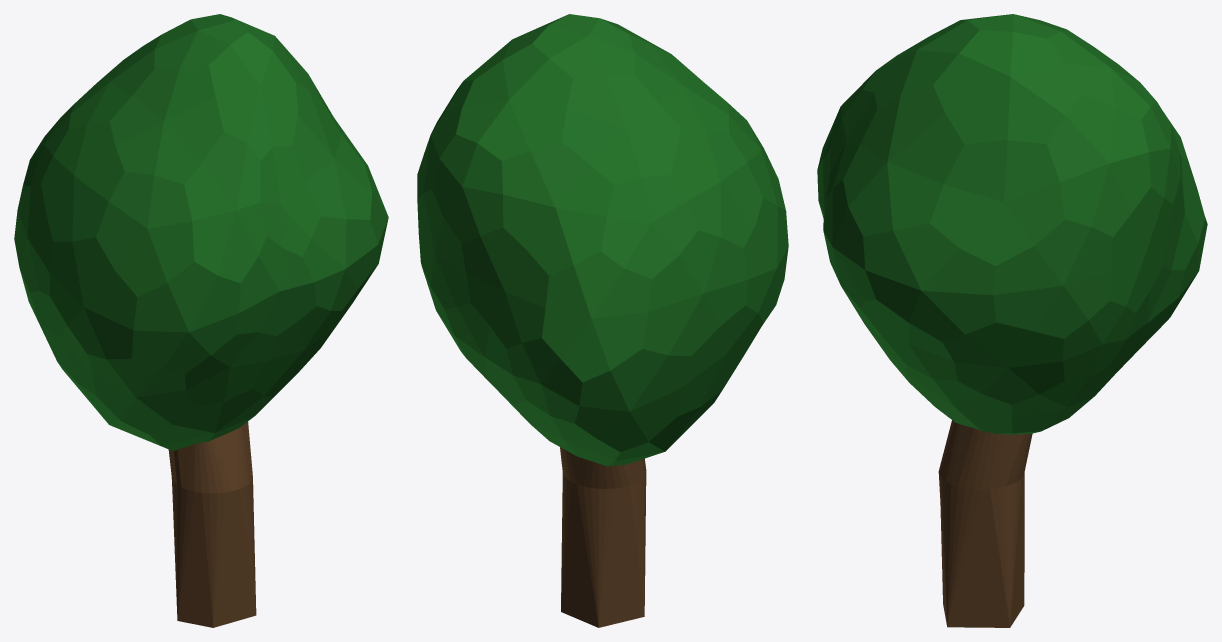
File: tree2.fbx
The picture shows the model from 3 angles, left to right: view 1: azimuth 30°, elevation 25°; view 2: azimuth 150°, elevation 25°; view 3: azimuth 270°, elevation 25°; orthographic projection. The views are drawn at different scales.
Visible parts, largest first — view 1: Cylinder_LOD0; view 2: Cylinder_LOD0; view 3: Cylinder_LOD0.
Boxes of the visible parts, x1,y1,x2,y2 form: Cylinder_LOD0: (14,14,388,627); Cylinder_LOD0: (417,14,788,627); Cylinder_LOD0: (817,14,1207,627).
Size of what is drawn, in the model's own units: 865 by 1543 by 908.
